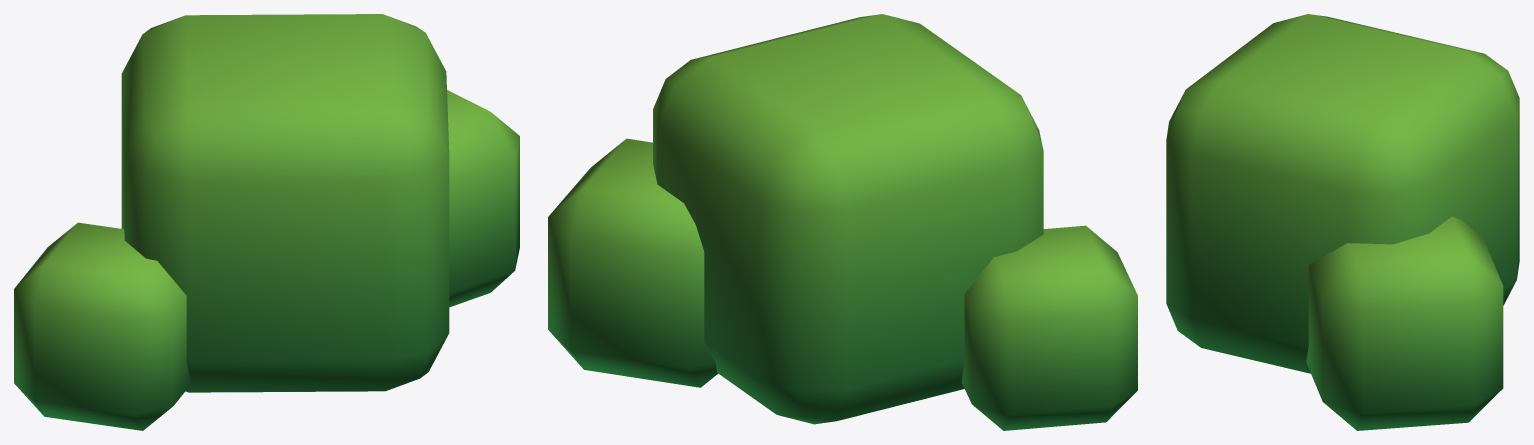
Rendered from Bush_2_D_Color1.glb.
3 renders of one model, left to right at view 1: azimuth 30°, elevation 25°; view 2: azimuth 150°, elevation 25°; view 3: azimuth 270°, elevation 25°, orthographic. The views are drawn at different scales.
Visible parts, largest first — view 1: Bush_2_D_Color1; view 2: Bush_2_D_Color1; view 3: Bush_2_D_Color1.
Part boxes in pixels (x1=…): Bush_2_D_Color1: x1=14, y1=14, x2=519, y2=430; Bush_2_D_Color1: x1=548, y1=14, x2=1137, y2=430; Bush_2_D_Color1: x1=1166, y1=14, x2=1519, y2=430.
Bounding box in the file's own units: 1.57 × 0.858 × 1.02.
1 material, 1 textured.
